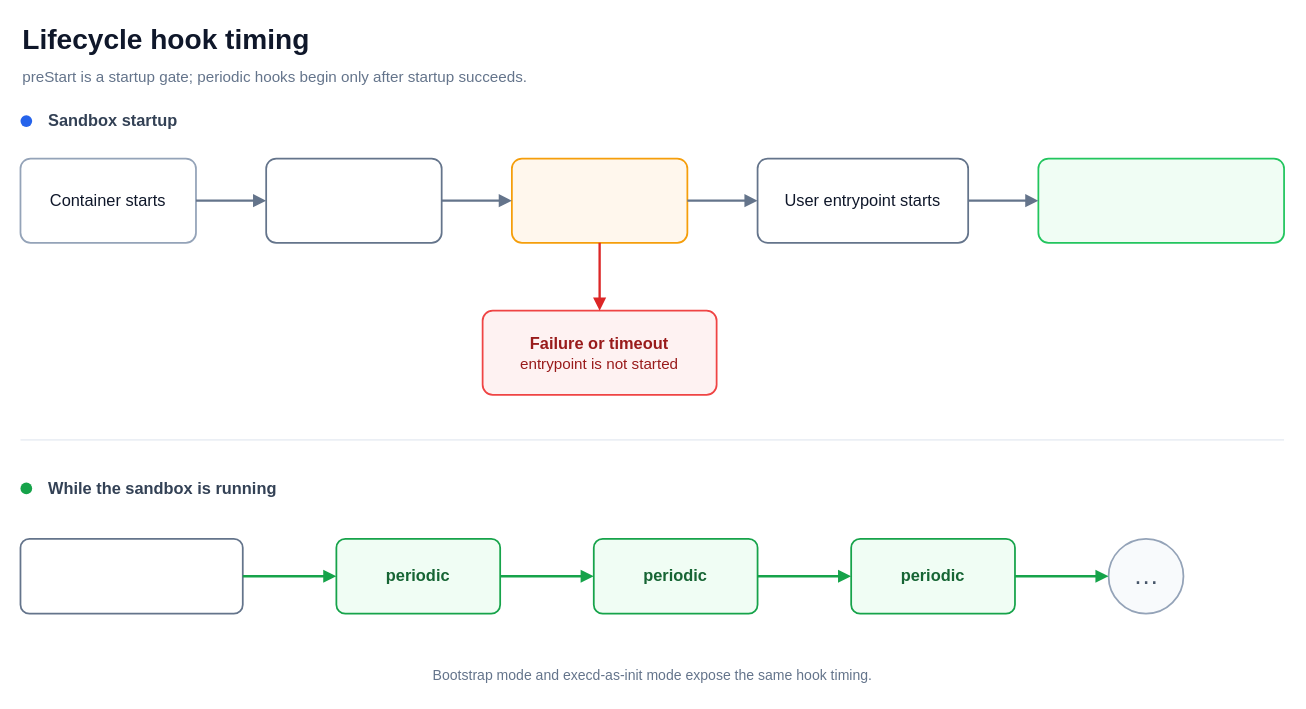
Some shapes in this 1306 by 709 pixel diagram are drawn without their labels. The box of each missing label's shape, as (x1, y1, x2, y2) in pixels:
execd ready: (265, 157, 442, 243)
Periodic scheduler: (19, 537, 243, 614)
preStart startup gate: (510, 157, 688, 243)
User workload running: (1037, 157, 1284, 243)
